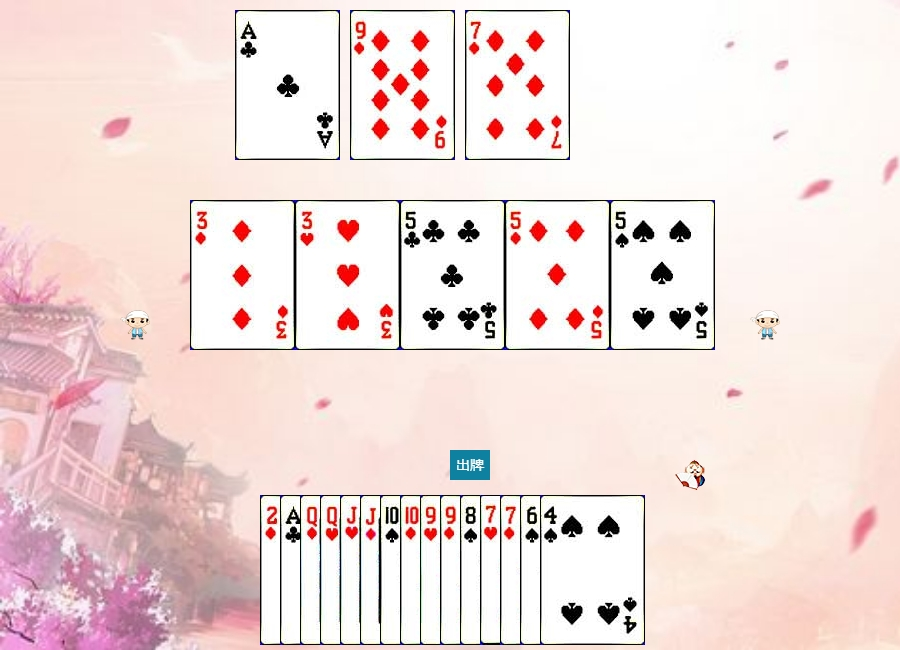10~1: (400, 495, 505, 645)
10~4: (380, 495, 485, 645)
11~1: (360, 495, 465, 645)
11~3: (340, 495, 445, 645)
12~1: (300, 495, 405, 645)
12~3: (320, 495, 425, 645)
14~2: (235, 10, 340, 160), (280, 495, 385, 645)
15~1: (260, 495, 365, 645)
3~1: (190, 200, 295, 350)
3~3: (295, 200, 400, 350)
4~4: (540, 495, 645, 645)
5~1: (505, 200, 610, 350)
5~2: (400, 200, 505, 350)
5~4: (610, 200, 715, 350)
6~4: (520, 495, 625, 645)
7~1: (465, 10, 570, 160), (500, 495, 605, 645)
7~3: (480, 495, 585, 645)
8~4: (460, 495, 565, 645)
9~1: (350, 10, 455, 160), (440, 495, 545, 645)
9~3: (420, 495, 525, 645)
